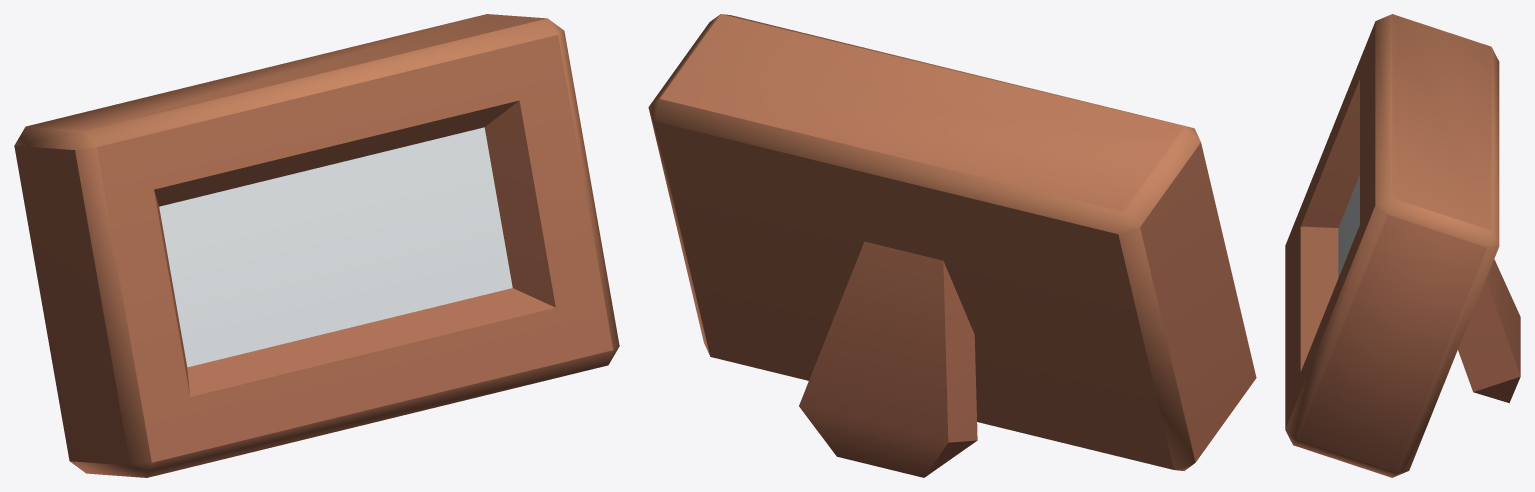
The model's file is pictureframe_standing_B.obj.
3 views of the same model, side by side, from view 1: azimuth 30°, elevation 25°; view 2: azimuth 150°, elevation 25°; view 3: azimuth 270°, elevation 25° (orthographic). The views are drawn at different scales.
Parts seen in each view (by area): view 1: pictureframe_standing_B_Cube.023; view 2: pictureframe_standing_B_Cube.023; view 3: pictureframe_standing_B_Cube.023.
Part boxes in pixels (x1=…): pictureframe_standing_B_Cube.023: x1=14, y1=14, x2=619, y2=477; pictureframe_standing_B_Cube.023: x1=648, y1=14, x2=1256, y2=477; pictureframe_standing_B_Cube.023: x1=1285, y1=14, x2=1520, y2=477.
Bounding box in the file's own units: 0.7 × 0.4682 × 0.357.
1 material, 1 textured.
